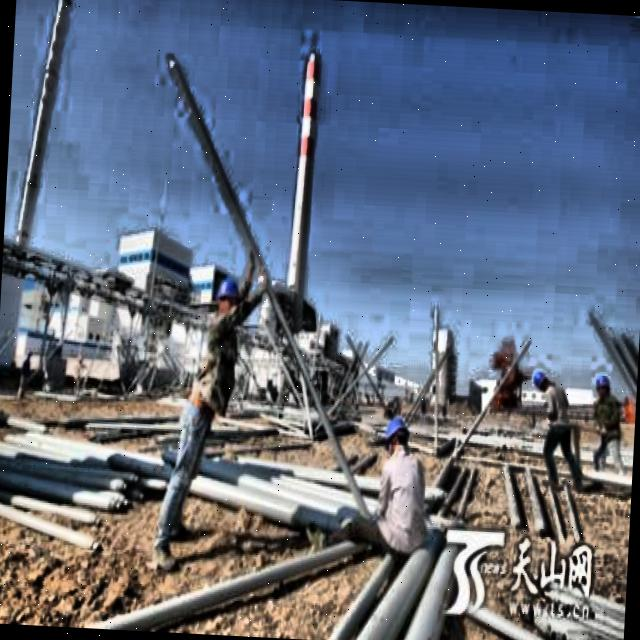helmet: (377, 410, 412, 458), (213, 268, 241, 318), (531, 361, 555, 397), (592, 369, 614, 404)
